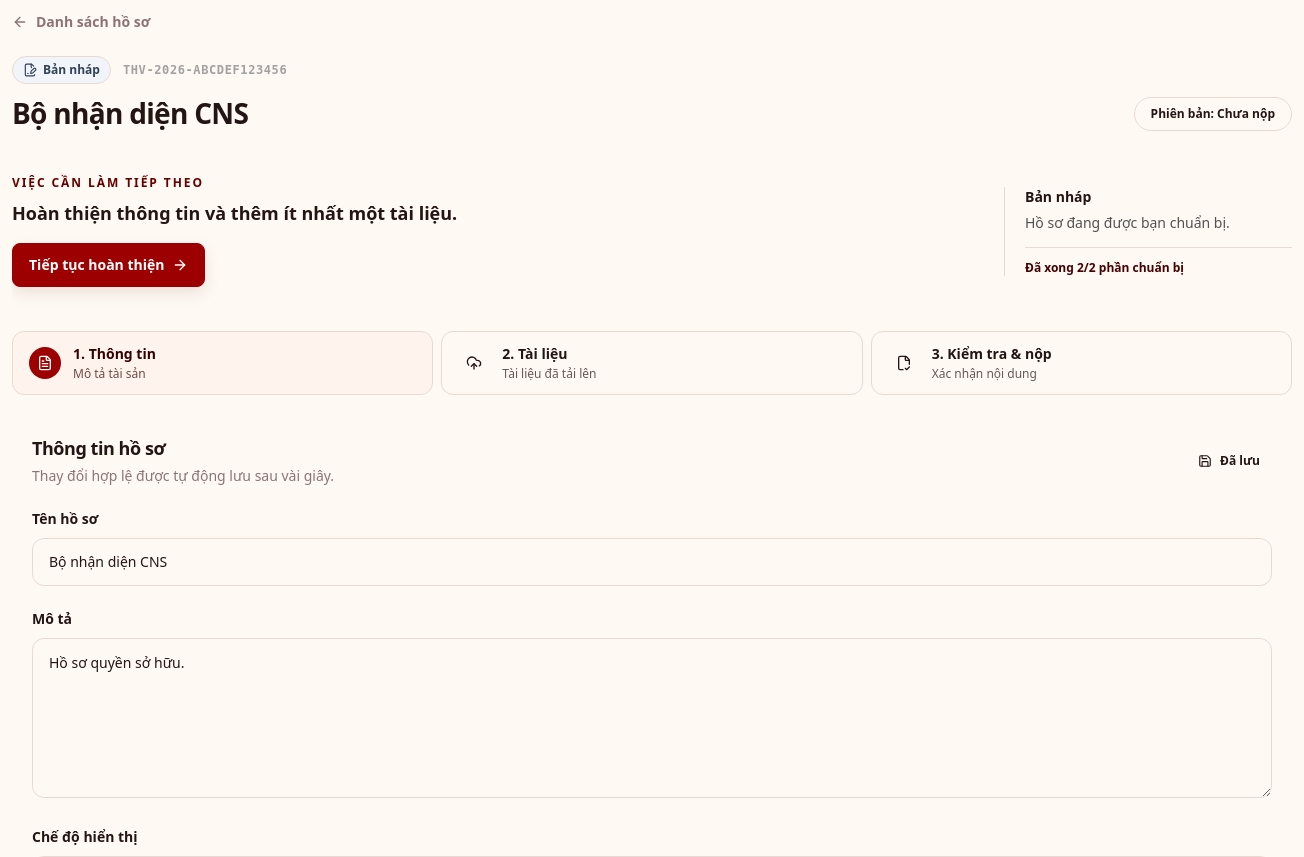
Test: DossierWorkspace › blocks submission when a saved claim still lacks supporting evidence
Expected: the heading "Bộ nhận diện CNS" is shown, 12,96 -> 287,131
Click the button "3. Kiểm tra & nộp Xác nhận nội dung": (999, 354) 871,331 -> 1292,395
(page scrolled)
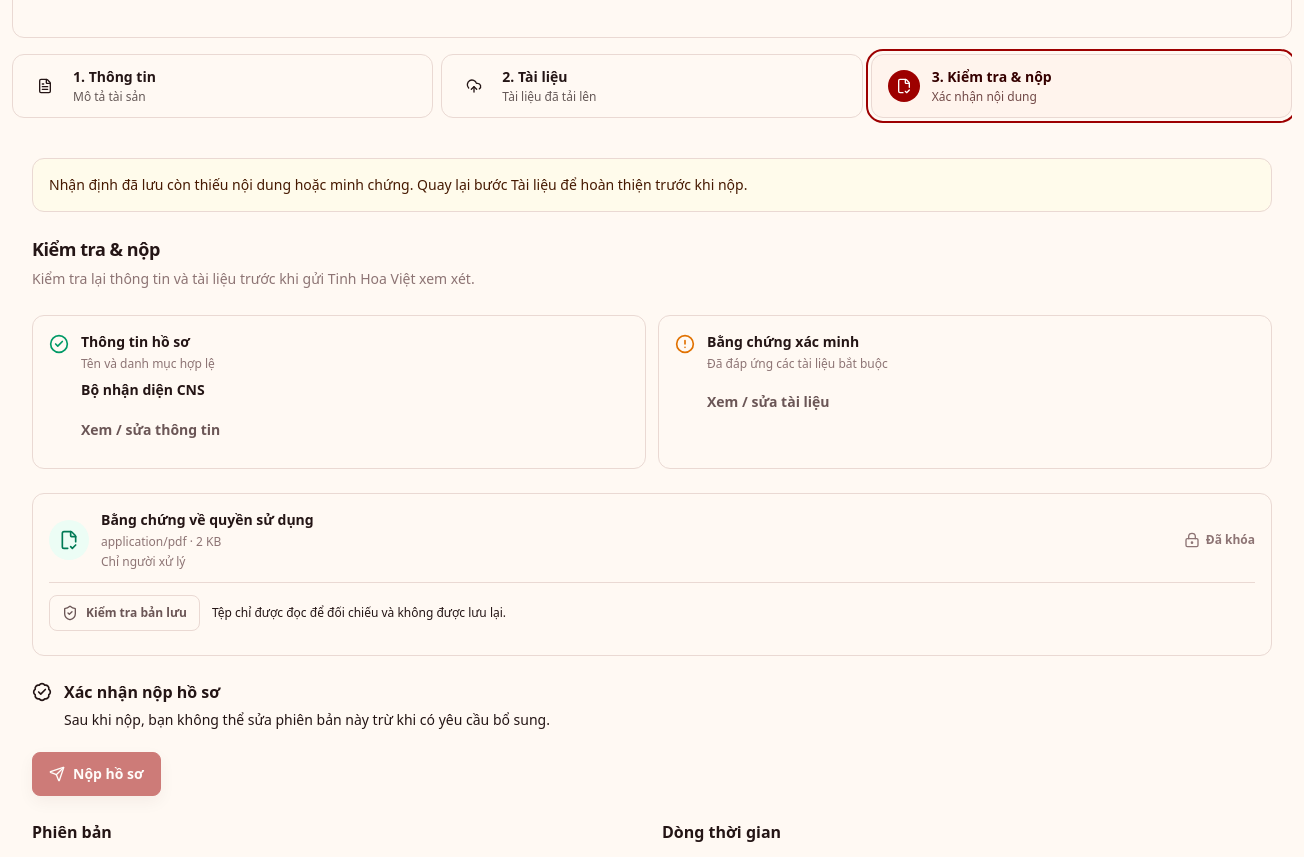
Result: the message shows "Nhận định đã lưu còn thiếu" at 49,175 -> 747,194
Result: the button "Nộp hồ sơ" is disabled at 32,752 -> 160,796
